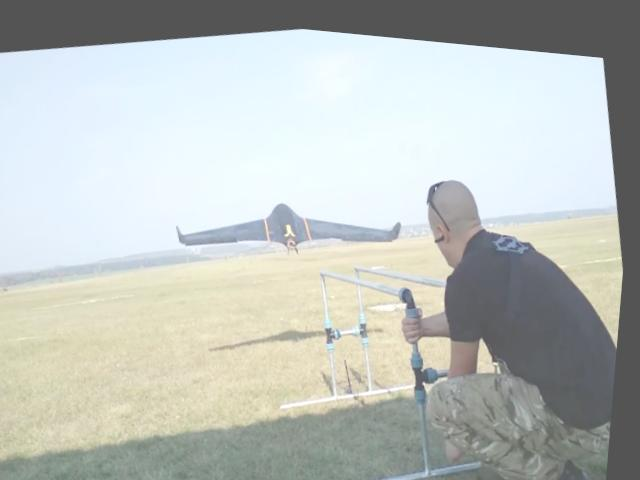plane: (167, 166, 411, 280)
